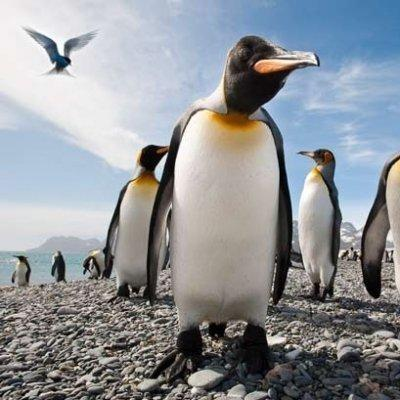Penguin: (145, 36, 318, 382), (102, 145, 167, 296), (298, 149, 340, 300), (361, 152, 399, 298), (82, 249, 104, 277), (12, 255, 31, 286), (51, 250, 66, 282)
